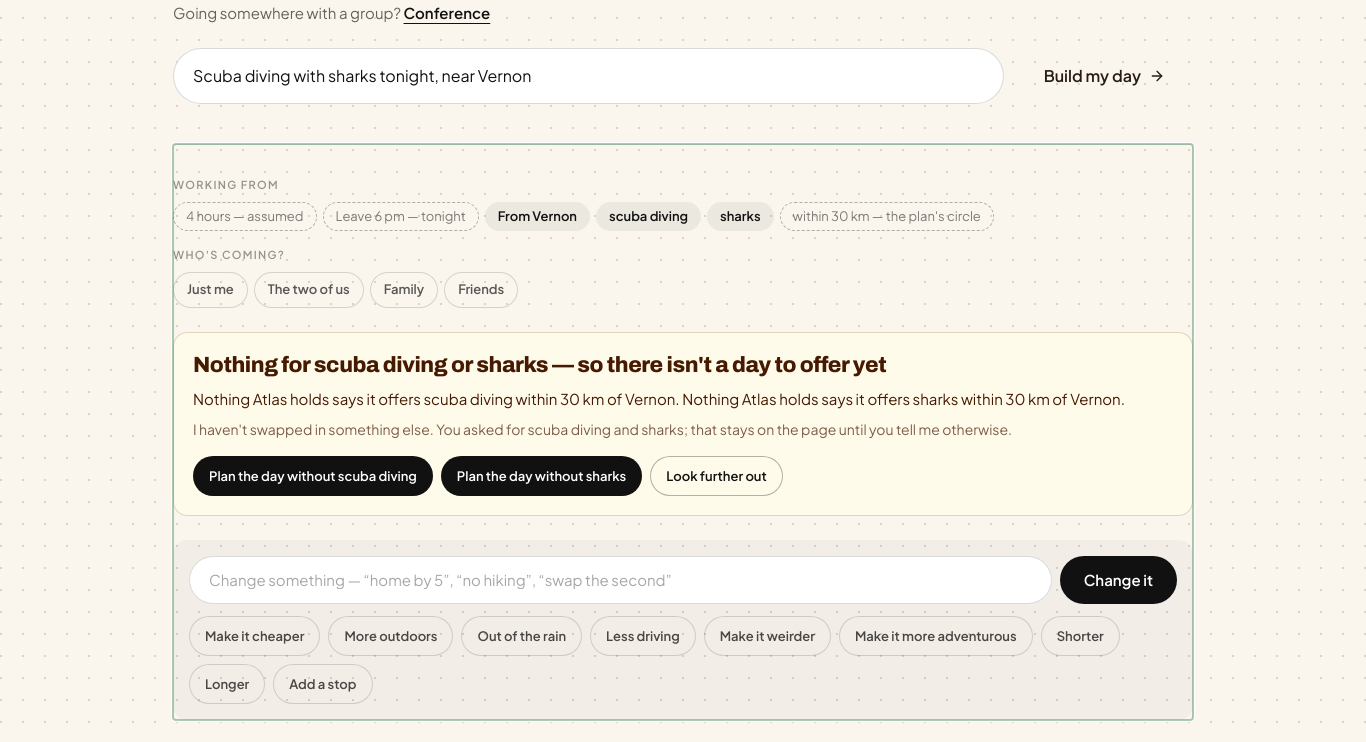
Go have a day › says nothing matched and substitutes nothing, and keeps the request on screen
The image size is (1366, 742).
(page scrolled)
Expected: the element with test id "go-working-from" shows "sharks", [720, 208, 760, 224]
Click the button with test id "go-without-scuba-diving".
click(313, 476)  # box [193, 456, 433, 496]
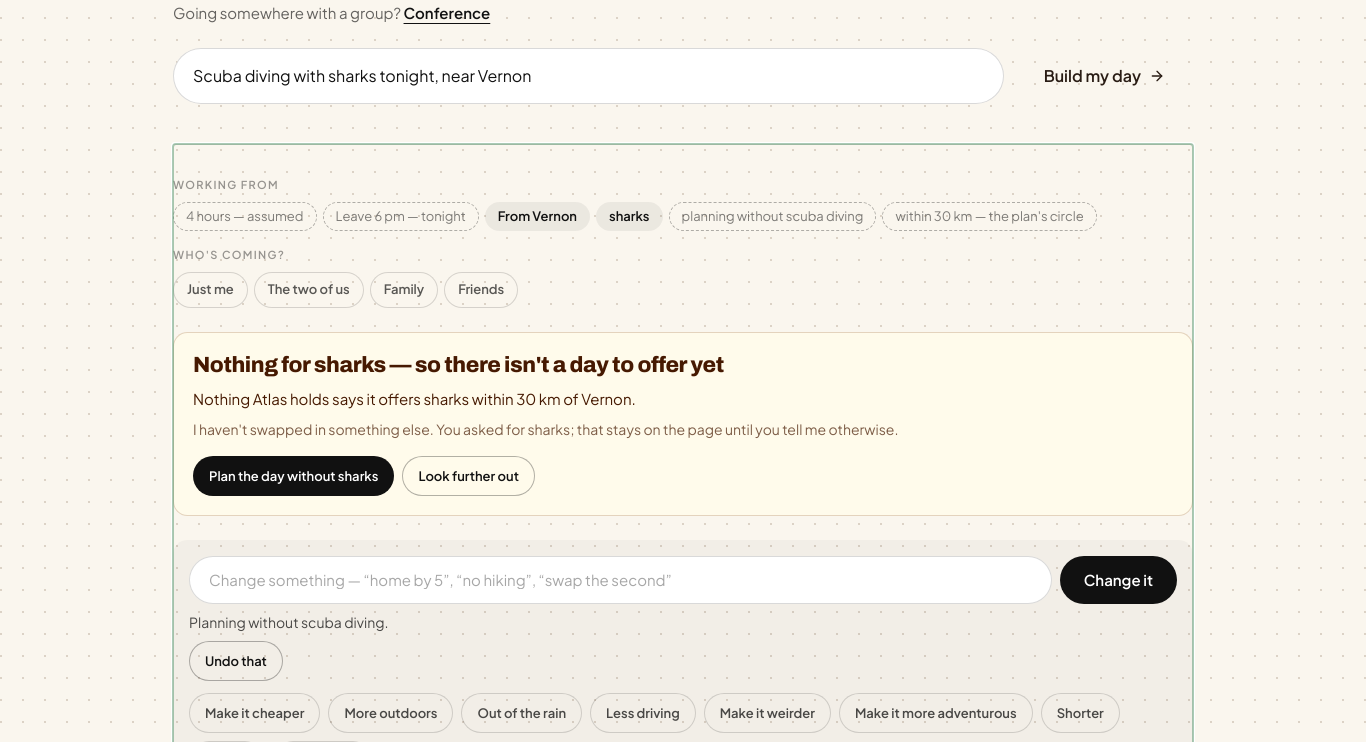
Expected: the message with test id "go-not-found" is shown, [173, 332, 1193, 516]
Click the button with test id "go-without-sharks".
click(294, 476)  # box [193, 456, 394, 496]
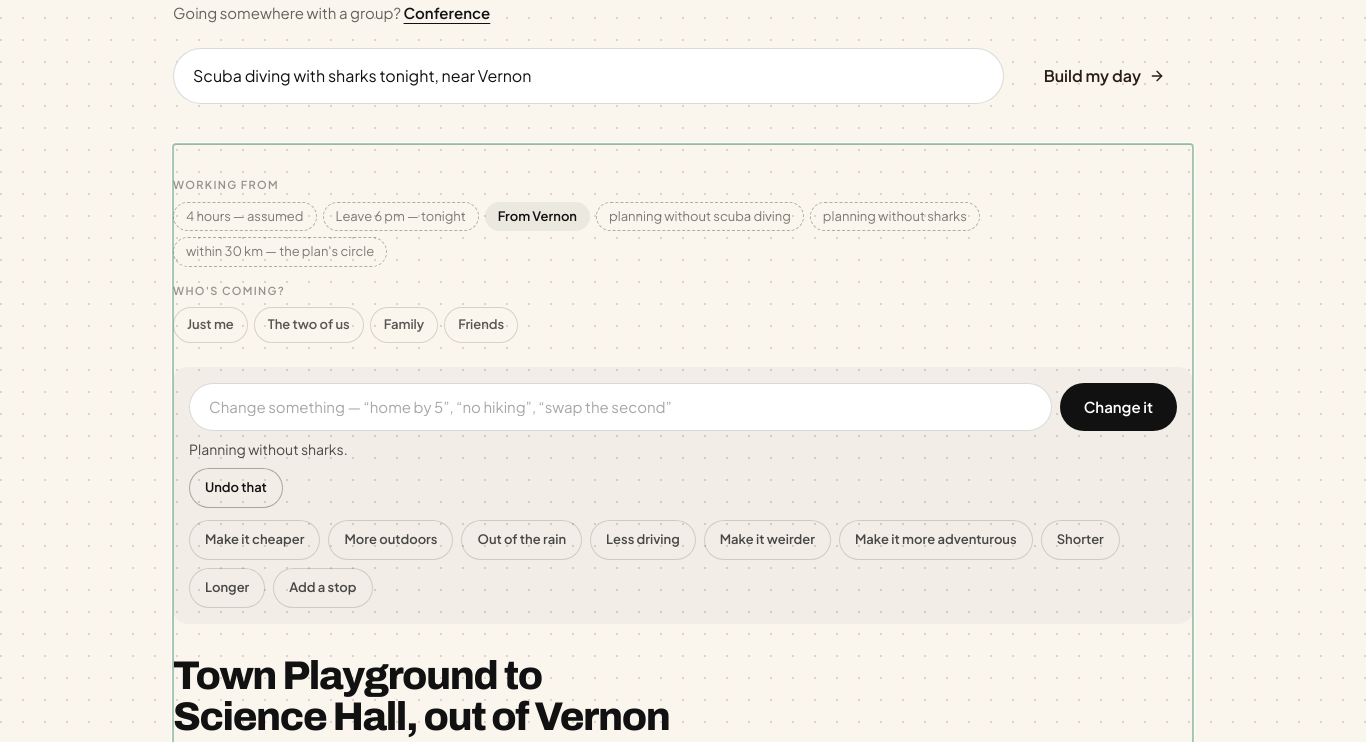
Now the message with test id "go-not-found" is gone
Now the element with test id "go-working-from" shows "without sharks", box [823, 208, 967, 224]
